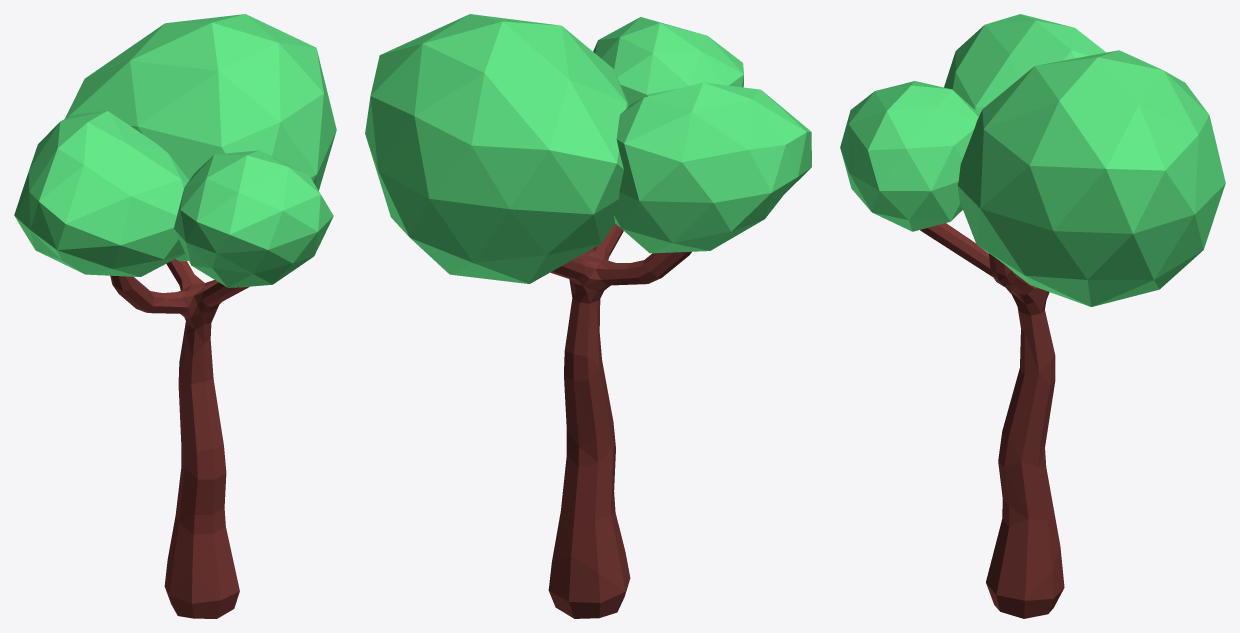
The model's file is tree2.fbx.
The picture shows the model from 3 angles, left to right: view 1: azimuth 30°, elevation 25°; view 2: azimuth 150°, elevation 25°; view 3: azimuth 270°, elevation 25°; orthographic projection. The views are drawn at different scales.
Parts seen in each view (by area): view 1: Icosphere, Icosphere.001, Cube, Icosphere.002; view 2: Icosphere, Icosphere.001, Cube, Icosphere.002; view 3: Icosphere, Cube, Icosphere.002, Icosphere.001.
Part boxes in pixels (x1,y1,x2,y2): Icosphere: [65, 14, 336, 261]; Icosphere.001: [14, 111, 188, 276]; Cube: [110, 259, 249, 618]; Icosphere.002: [174, 150, 333, 287]; Icosphere: [365, 14, 629, 283]; Icosphere.001: [614, 82, 811, 253]; Cube: [548, 223, 691, 618]; Icosphere.002: [593, 17, 743, 104]; Icosphere: [957, 50, 1225, 306]; Cube: [920, 223, 1064, 618]; Icosphere.002: [840, 81, 979, 231]; Icosphere.001: [944, 14, 1106, 114].
Bounding box in the file's own units: 975 × 1550 × 936.
